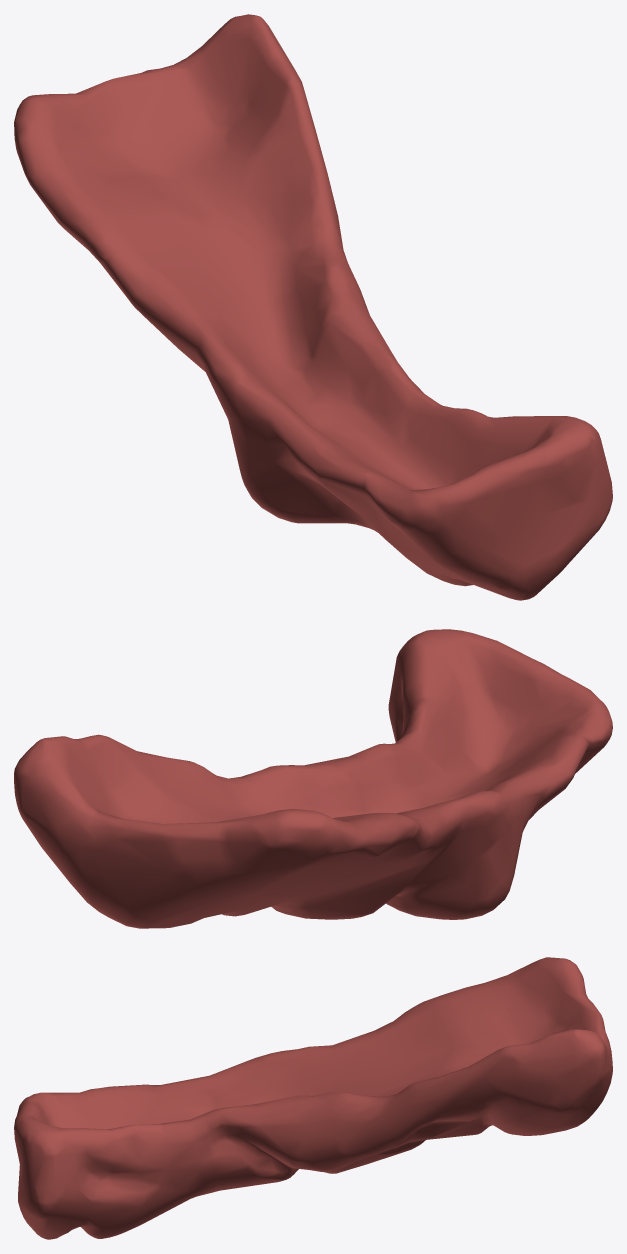
File: FMA72705.glb
The picture shows the model from 3 angles, top to bottom: view 1: azimuth 30°, elevation 25°; view 2: azimuth 150°, elevation 25°; view 3: azimuth 270°, elevation 25°; orthographic projection. The views are drawn at different scales.
Parts seen in each view (by area): view 1: FMA72705; view 2: FMA72705; view 3: FMA72705.
Part boxes in pixels (<box>): FMA72705: <box>14,14,612,600</box>; FMA72705: <box>14,629,612,928</box>; FMA72705: <box>14,957,612,1239</box>.
Size of the model in its own units: 0.02 by 0.0209 by 0.0469.
